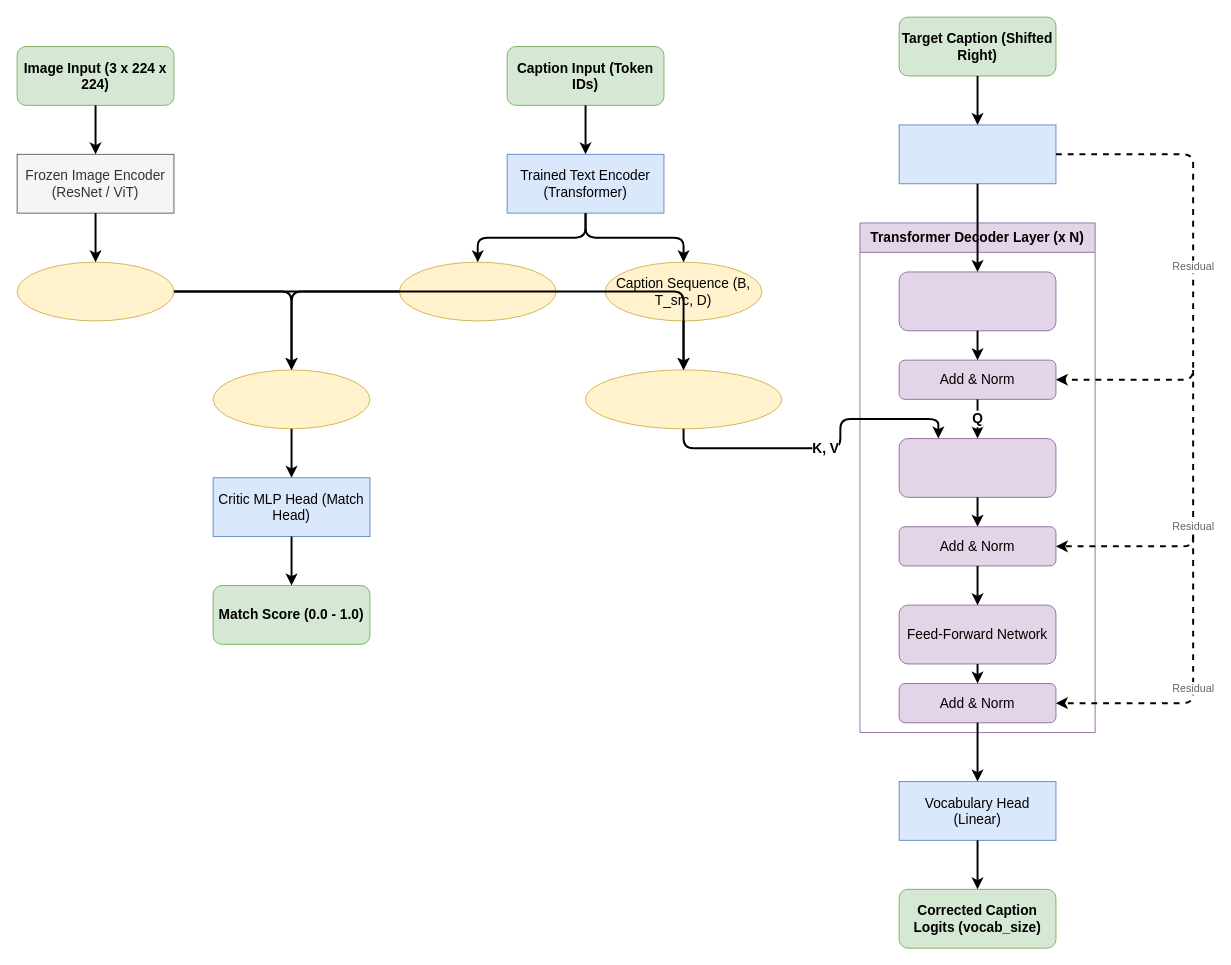
This 1231x965 diagram has some shape labels left out. Here are the shapes that lost their labels. From the top down, the centre of each, then its label:
At (977,154): "Token Embedding + Positional Enc".
At (95,291): "Image Vector (B, D)".
At (477,291): "Pooled caption".
At (977,301): "Masked Multi-Head Self-Attention".
At (291,399): "Concatenate (B, 2D)".
At (683,399): "Cross-Attention Memory [Img Vector] + [Txt Seq]".
At (977,467): "Multi-Head Cross-Attention".
